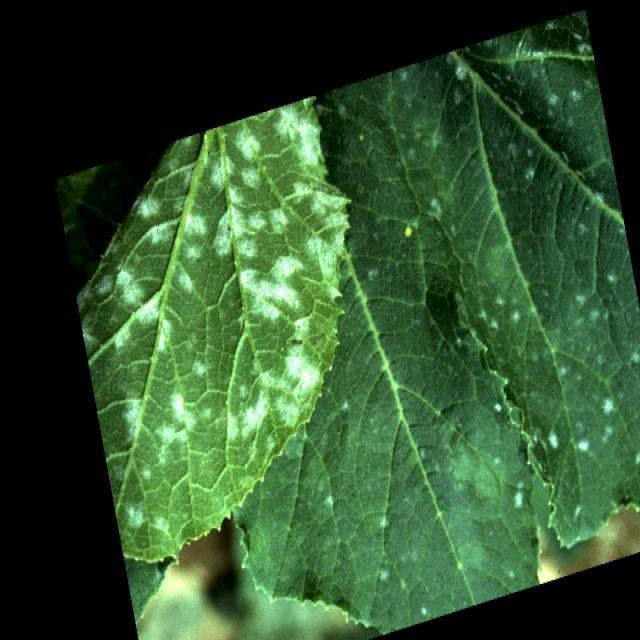Leaf_Mold: (254, 17, 640, 637), (75, 107, 346, 562), (549, 268, 620, 450)
